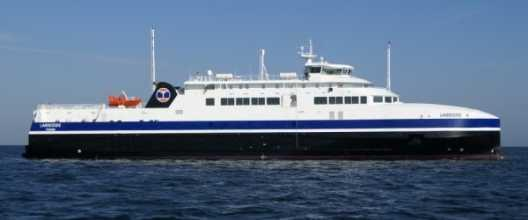yacht: (19, 55, 508, 161)
